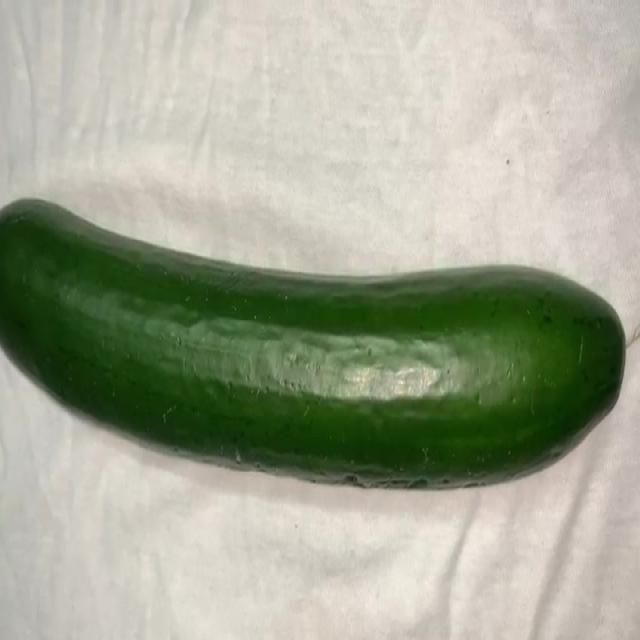Cucumber: (3, 189, 625, 488)
